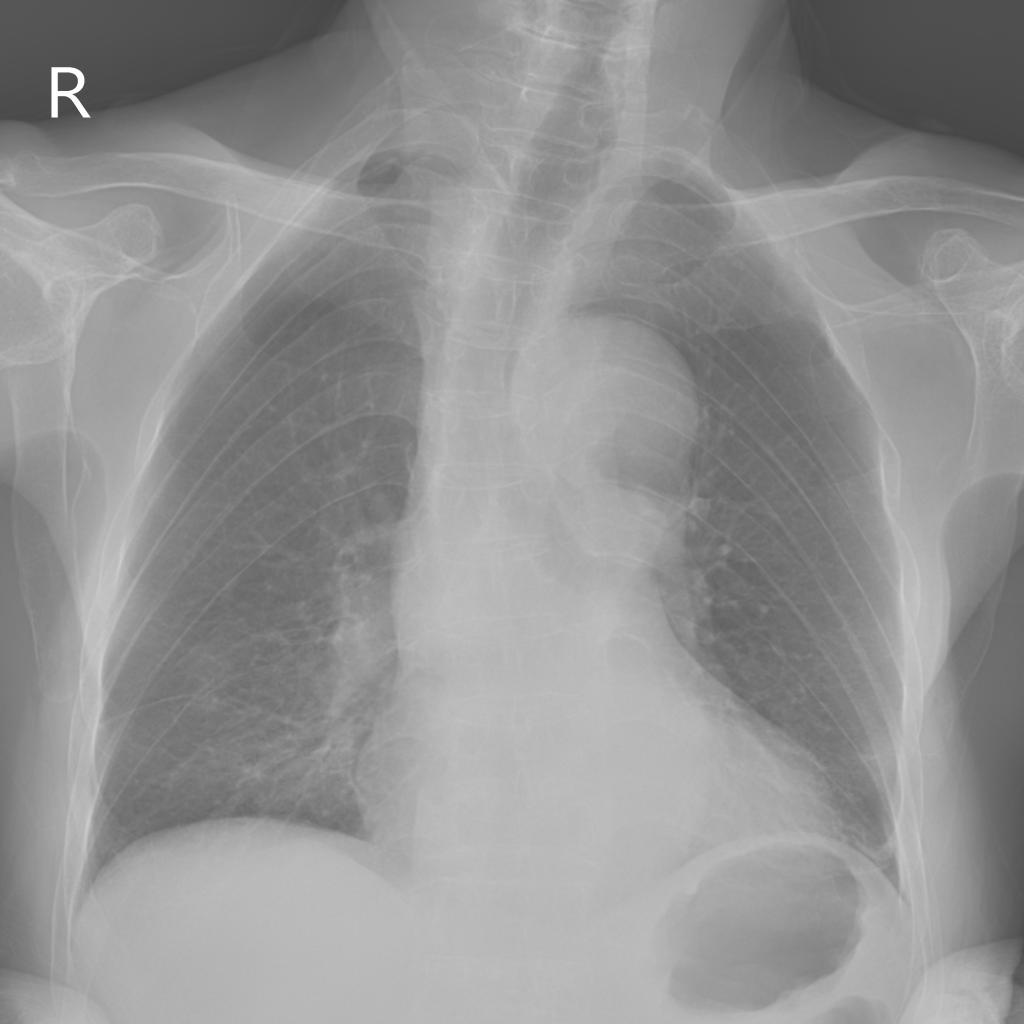Nodule: (537, 422, 671, 567)
